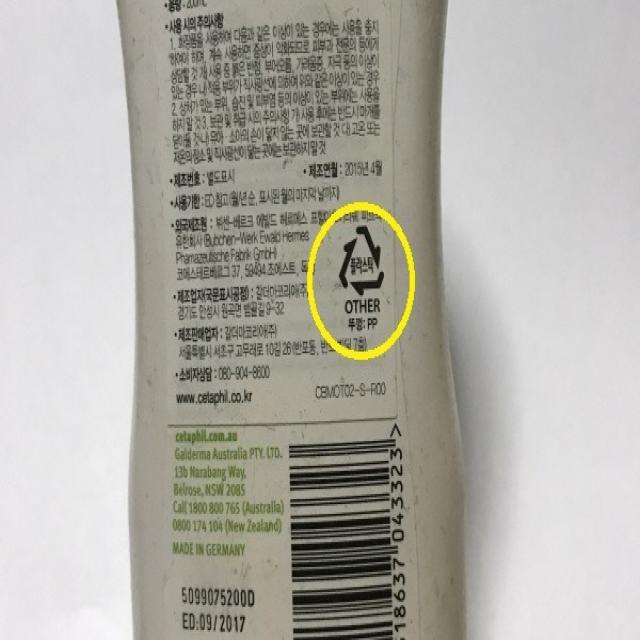Plastic: (336, 222, 387, 298)
